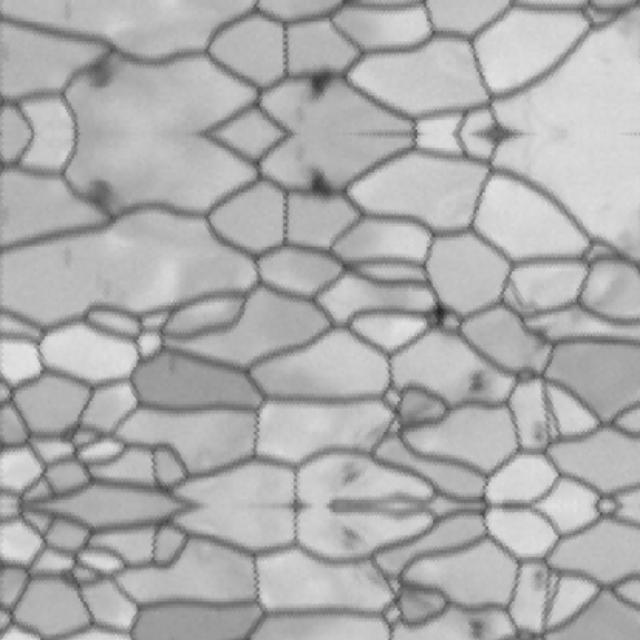good_void: (83, 48, 121, 94), (83, 175, 121, 220), (304, 66, 337, 102), (304, 167, 337, 202), (336, 456, 362, 491), (336, 523, 362, 558), (427, 302, 453, 334), (526, 415, 547, 448), (526, 566, 547, 599), (59, 246, 80, 273), (59, 0, 80, 23), (467, 373, 486, 397), (467, 617, 486, 640)
